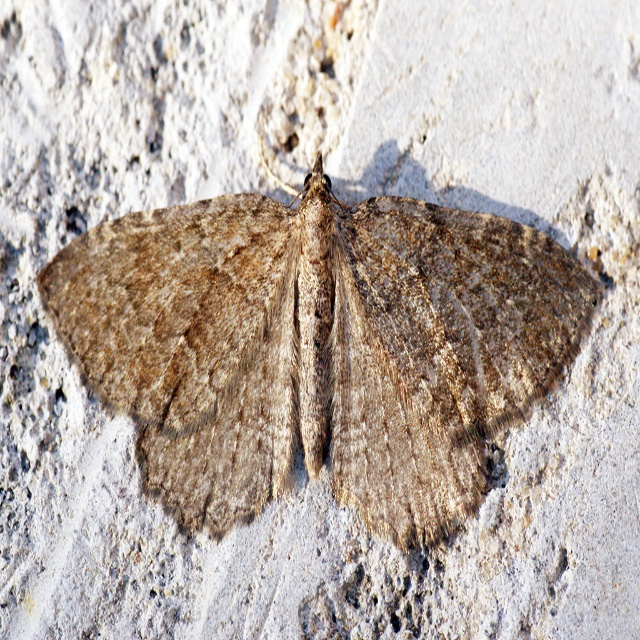Butterfly: (51, 116, 593, 567)
